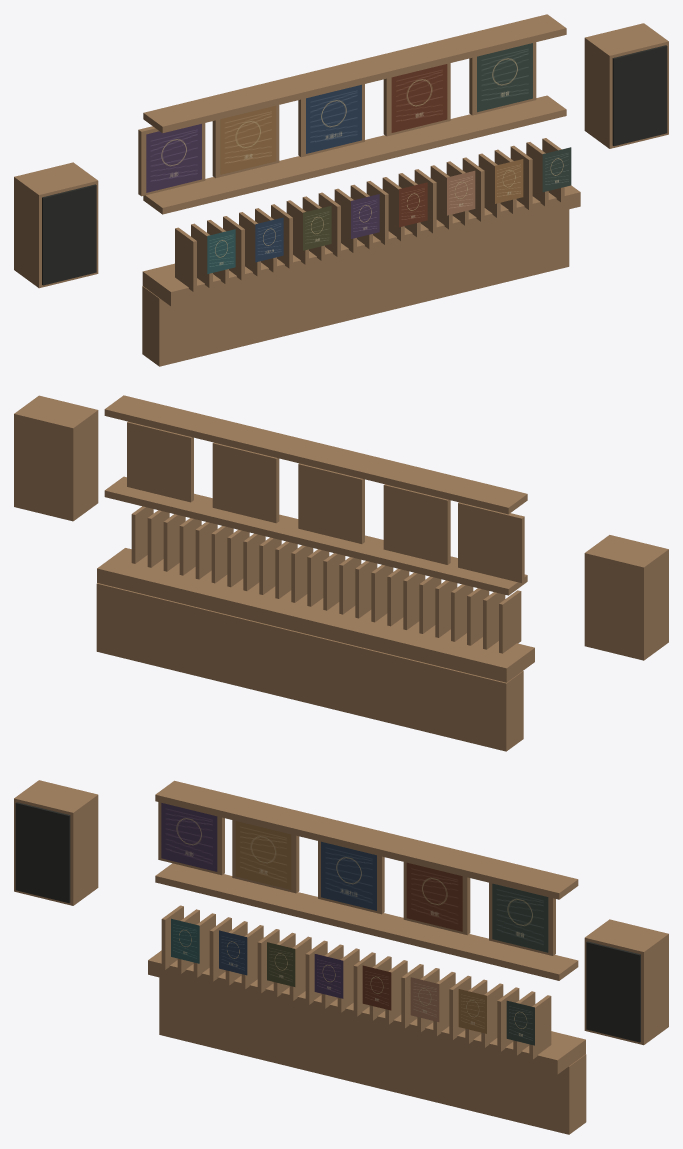
Rendered from yokocho-record-library.glb.
The picture shows the model from 3 angles, top to bottom: view 1: azimuth 30°, elevation 25°; view 2: azimuth 150°, elevation 25°; view 3: azimuth 330°, elevation 25°; orthographic projection.
Visible parts, largest first — view 1: Shops/S07/Personality/RecordLibrary__Night_Walnut, Shops/S07/Personality/RecordLibrary__Night_Print, Shops/S07/Personality/RecordLibrary__Night_SpeakerCone; view 2: Shops/S07/Personality/RecordLibrary__Night_Walnut; view 3: Shops/S07/Personality/RecordLibrary__Night_Walnut, Shops/S07/Personality/RecordLibrary__Night_Print, Shops/S07/Personality/RecordLibrary__Night_SpeakerCone.
Part boxes in pixels (left/top/right/bottom): Shops/S07/Personality/RecordLibrary__Night_Walnut: left=14, top=14, right=668, bottom=366; Shops/S07/Personality/RecordLibrary__Night_Print: left=146, top=43, right=571, bottom=273; Shops/S07/Personality/RecordLibrary__Night_SpeakerCone: left=42, top=45, right=667, bottom=285; Shops/S07/Personality/RecordLibrary__Night_Walnut: left=14, top=395, right=668, bottom=751; Shops/S07/Personality/RecordLibrary__Night_Walnut: left=14, top=780, right=668, bottom=1134; Shops/S07/Personality/RecordLibrary__Night_Print: left=161, top=803, right=548, bottom=1045; Shops/S07/Personality/RecordLibrary__Night_SpeakerCone: left=15, top=802, right=640, bottom=1042.
Bounding box in the file's own units: 5.52 × 2.03 × 0.535.
4 materials, 1 textured.
